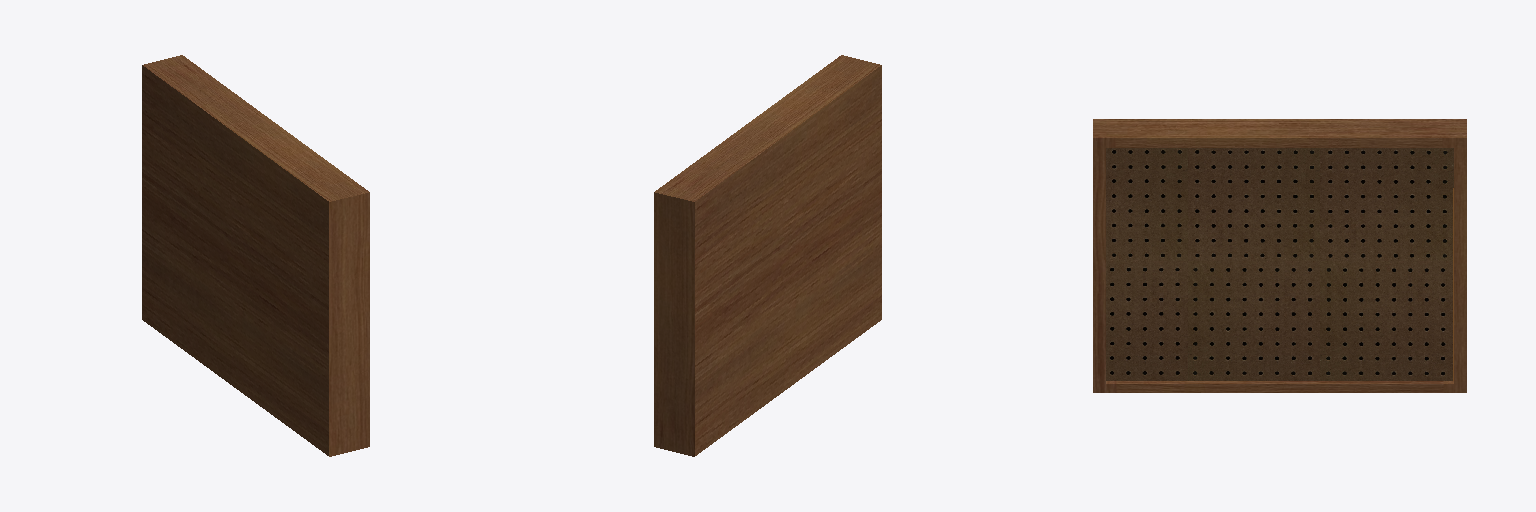
3 renders of one model, left to right at view 1: azimuth 30°, elevation 25°; view 2: azimuth 150°, elevation 25°; view 3: azimuth 270°, elevation 25°, orthographic.
Parts seen in each view (by area): view 1: Board:Mesh; view 2: Board:Mesh; view 3: Board:Mesh.
Boxes of the visible parts, box(x1,y1,x2,y2) form: Board:Mesh: box(142, 55, 369, 456); Board:Mesh: box(654, 55, 881, 456); Board:Mesh: box(1093, 119, 1466, 392).
Size of the model in its own units: 1 by 6 by 8.
Materials: 1 (1 with a texture image).